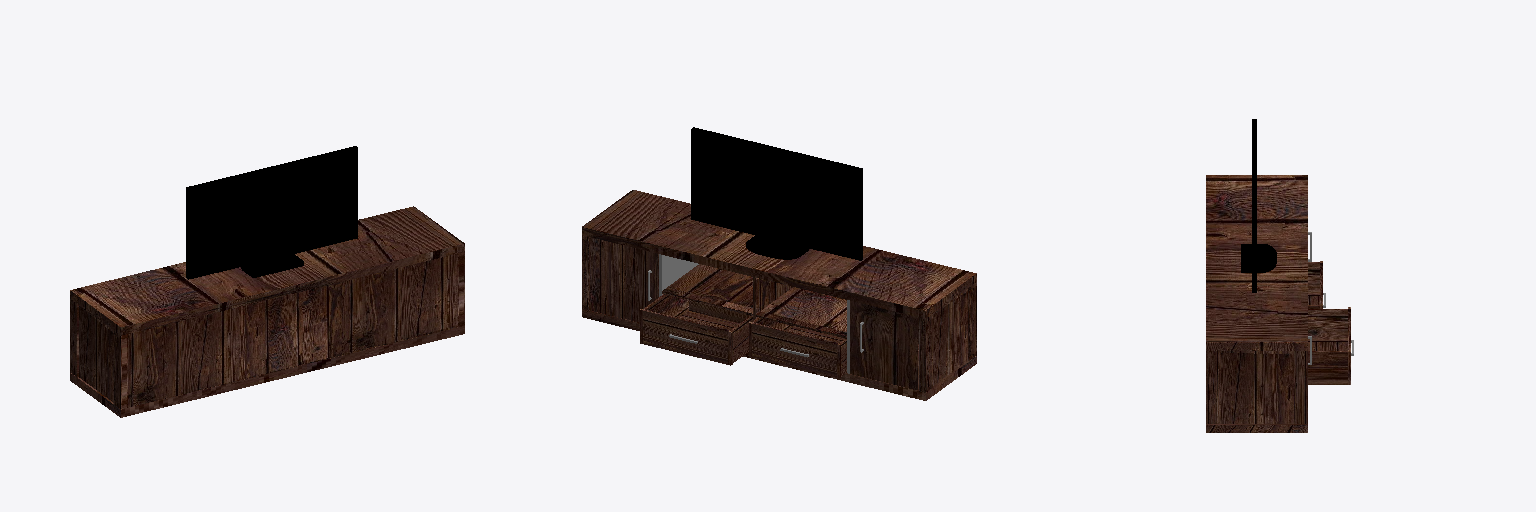
The picture shows the model from 3 angles: view 1: azimuth 30°, elevation 25°; view 2: azimuth 150°, elevation 25°; view 3: azimuth 270°, elevation 25°; orthographic projection.
Visible parts, largest first — view 1: Cube_006, Plane, Cube_001, Cube, Cube_005_Cube_022; view 2: Plane, Cube_001, Cube_008, Cube, Cube_013, Cube_012, Cube_010, Cube_007, Cube_009, Cube_005_Cube_022, Cube_002; view 3: Cube_001, Cube_004, Cube_008, Cube, Plane, Cube_010.
Part boxes in pixels (x1,y1,x2,y2): Cube_006: (128,254,457,407); Plane: (186,146,357,279); Cube_001: (70,206,464,335); Cube: (70,252,464,417); Cube_005_Cube_022: (79,306,113,402); Plane: (691,127,862,260); Cube_001: (582,190,976,318); Cube_008: (640,294,752,365); Cube: (582,235,976,400); Cube_013: (850,301,917,389); Cube_012: (590,237,658,322); Cube_010: (749,317,846,378); Cube_007: (662,264,752,315); Cube_009: (756,287,846,338); Cube_005_Cube_022: (933,289,967,385); Cube_002: (659,254,698,296); Cube_001: (1206,175,1307,350); Cube_004: (1221,351,1293,423); Cube_008: (1308,307,1350,384); Cube: (1206,351,1307,432); Plane: (1241,119,1276,292); Cube_010: (1308,261,1322,308).
Bounding box in the file's own units: 10.69 × 5.76 × 3.98.
3 materials, 2 textured.